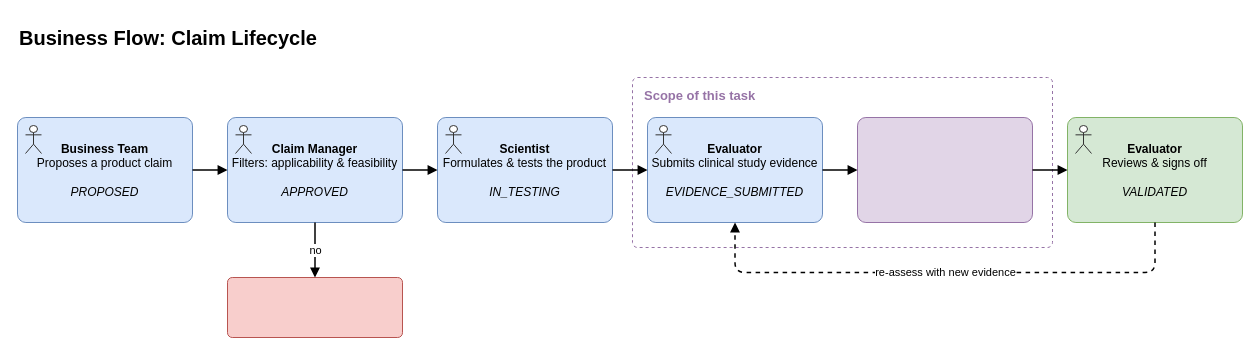
The diagram is 1260 pixels wide and 355 high, and some of its shapes have lost their labels. The centre of each missing label's shape, as x and y in pixels:
"AI Assessment (LLM) Checks evidence against the claim ASSESSED" goes at point (944, 169).
"REJECTED not applicable / not feasible" goes at point (314, 307).
